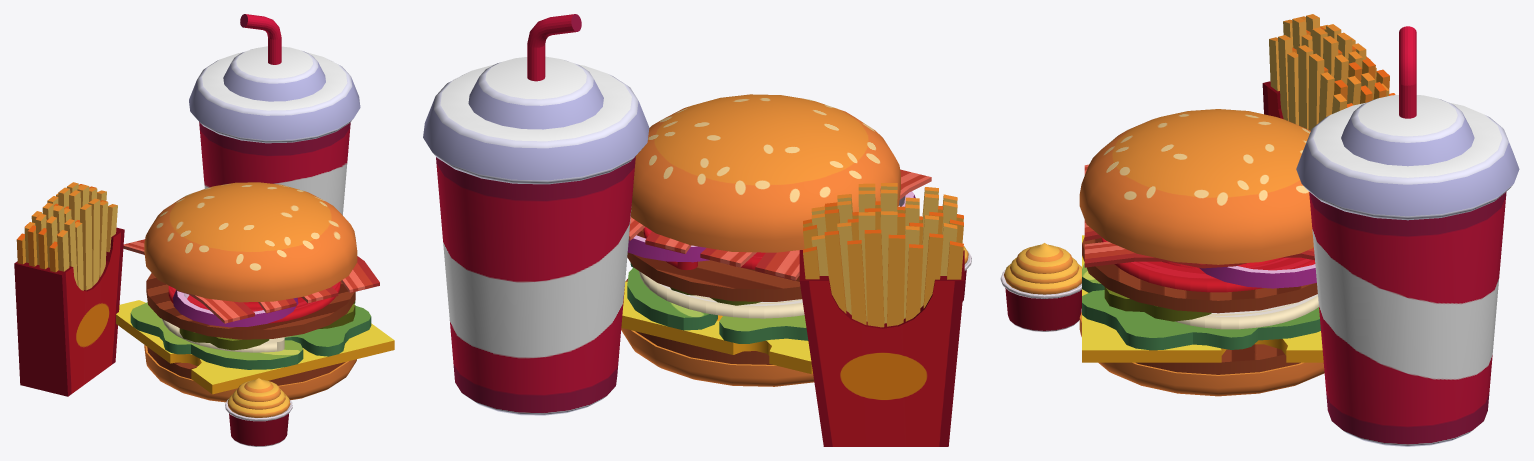
File: Burger_blender.fbx
The picture shows the model from 3 angles, left to right: view 1: azimuth 30°, elevation 25°; view 2: azimuth 150°, elevation 25°; view 3: azimuth 270°, elevation 25°; orthographic projection. The views are drawn at different scales.
Visible parts, largest first — view 1: Cola_Cup, Bun_Slice_Top, Fries_Box_1, Lettuce_Slice2, Cheese_Slice2, Patty_Slice3, Dip_4, Bacon_Slice2, Bun_Slice_Bot, Onion_Slice2, Pickle_Slice2, Patty_Slice2 (+2 smaller); view 2: Cola_Cup, Fries_Box_1, Bun_Slice_Top, Patty_Slice3, Lettuce_Slice2, Bun_Slice_Bot, Cheese_Slice2, Bacon_Slice2, Mayo_Slice1, Patty_Slice2, Onion_Slice2; view 3: Cola_Cup, Bun_Slice_Top, Fries_Box_1, Lettuce_Slice2, Dip_4, Patty_Slice3, Bun_Slice_Bot, Cheese_Slice2, Ketchup_Slice1, Patty_Slice2, Mayo_Slice1, Onion_Slice2 (+2 smaller).
Part boxes in pixels (bbox=[...]): Cola_Cup: bbox=[189, 14, 360, 215]; Bun_Slice_Top: bbox=[144, 182, 357, 302]; Fries_Box_1: bbox=[14, 182, 124, 396]; Lettuce_Slice2: bbox=[130, 302, 371, 369]; Cheese_Slice2: bbox=[116, 300, 394, 394]; Patty_Slice3: bbox=[146, 273, 355, 339]; Dip_4: bbox=[225, 378, 292, 446]; Bacon_Slice2: bbox=[123, 239, 379, 323]; Bun_Slice_Bot: bbox=[144, 345, 356, 402]; Onion_Slice2: bbox=[172, 290, 298, 327]; Pickle_Slice2: bbox=[179, 301, 355, 350]; Patty_Slice2: bbox=[147, 347, 345, 385]; Cola_Cup: bbox=[423, 14, 649, 415]; Fries_Box_1: bbox=[799, 183, 964, 446]; Bun_Slice_Top: bbox=[631, 94, 900, 252]; Patty_Slice3: bbox=[627, 229, 802, 301]; Lettuce_Slice2: bbox=[627, 262, 808, 343]; Bun_Slice_Bot: bbox=[621, 328, 814, 386]; Cheese_Slice2: bbox=[621, 281, 812, 373]; Bacon_Slice2: bbox=[628, 169, 931, 280]; Mayo_Slice1: bbox=[639, 271, 804, 318]; Patty_Slice2: bbox=[625, 279, 772, 364]; Onion_Slice2: bbox=[627, 191, 915, 262]; Cola_Cup: bbox=[1296, 26, 1519, 446]; Bun_Slice_Top: bbox=[1079, 109, 1313, 264]; Fries_Box_1: bbox=[1262, 14, 1395, 130]; Lettuce_Slice2: bbox=[1082, 263, 1320, 350]; Dip_4: bbox=[1000, 243, 1081, 331]; Patty_Slice3: bbox=[1082, 237, 1317, 313]; Bun_Slice_Bot: bbox=[1079, 312, 1324, 396]; Cheese_Slice2: bbox=[1082, 235, 1323, 362]; Ketchup_Slice1: bbox=[1102, 238, 1315, 292]; Patty_Slice2: bbox=[1136, 344, 1300, 374]; Mayo_Slice1: bbox=[1175, 294, 1318, 329]; Onion_Slice2: bbox=[1199, 264, 1316, 288].
Size of the model in its own units: 40.3 by 30.09 by 38.12.
13 materials, 13 textured.
